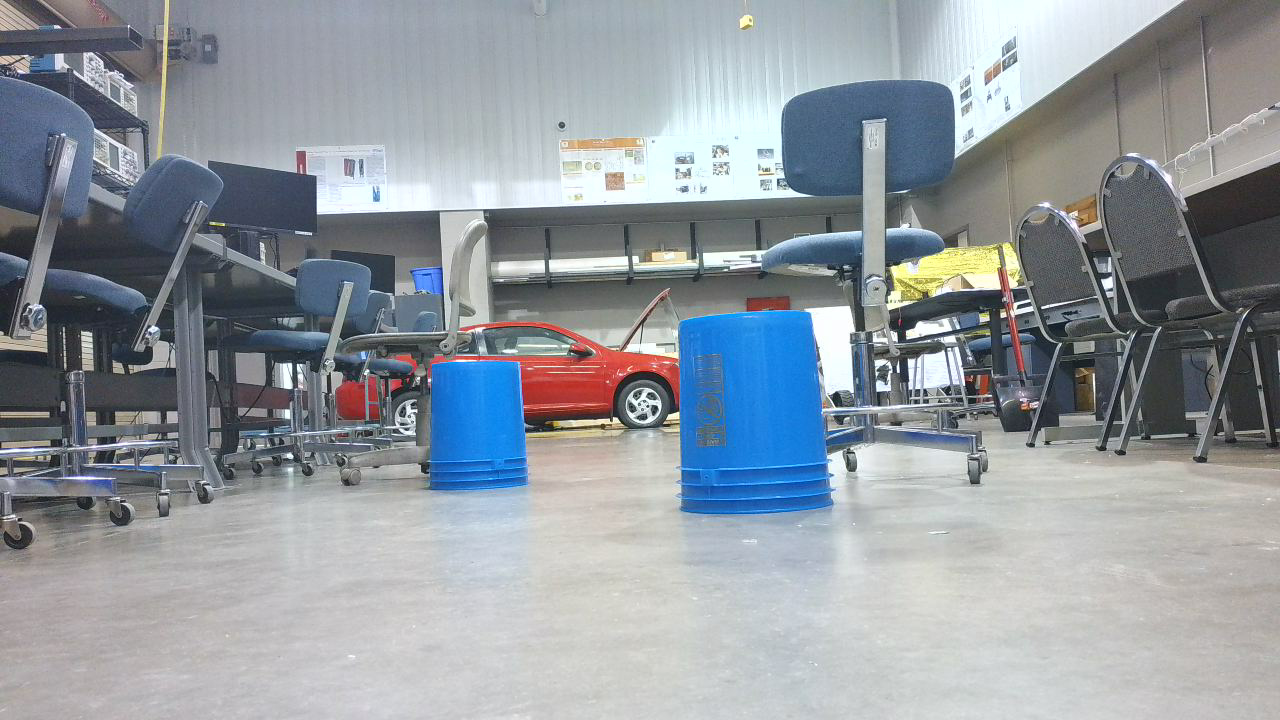blue_bucket: (683, 314, 841, 520), (434, 368, 536, 497)
